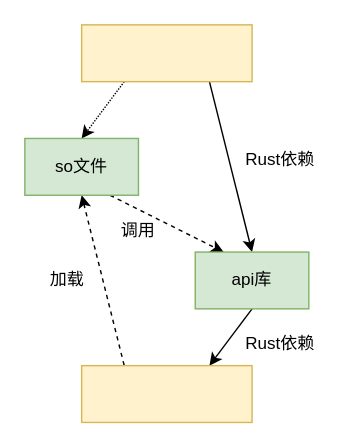
This 348x447 diagram has some shape labels left out. The box of each missing label's shape, as (x1, y1, x2, y2) in pixels:
vDSO外部代码: (80, 364, 252, 422)
（vDSO内部） 功能代码: (80, 23, 252, 82)
